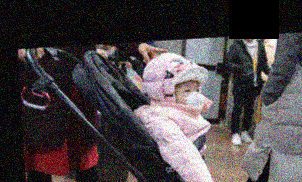with_mask: (175, 79, 204, 116)
